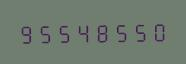eight: (93, 19, 111, 43)
five: (36, 20, 54, 44), (55, 20, 73, 44), (112, 19, 130, 43), (131, 19, 149, 43)
four: (74, 20, 92, 44)
nine: (17, 21, 35, 45)
zero: (150, 18, 168, 42)
